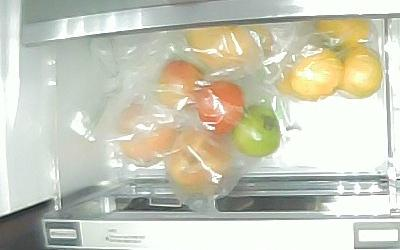peach_vinyl: (165, 128, 233, 196), (117, 104, 178, 162)
pear_vinyl: (183, 24, 273, 71)
tangerine_vinyl: (288, 47, 344, 101), (339, 45, 382, 98), (316, 18, 370, 54)
tomato_vinyl: (196, 79, 245, 134), (234, 104, 280, 158), (157, 59, 203, 109)
